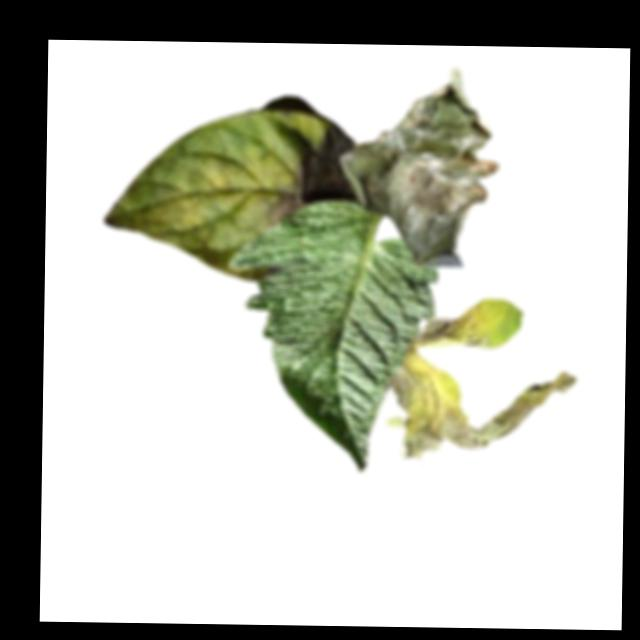Late_blight: (340, 68, 499, 267), (390, 367, 580, 465), (265, 124, 343, 226), (417, 298, 502, 350)
healthy: (228, 200, 438, 472)
